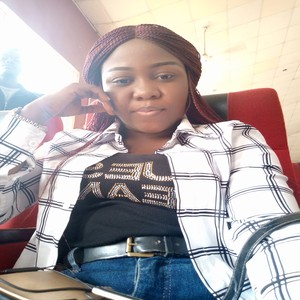Fulokoja_female_student: (51, 26, 222, 300)
